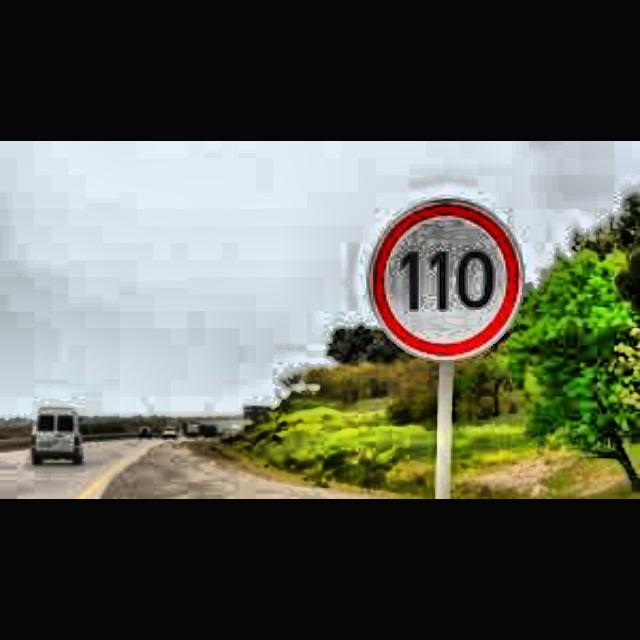speed_110: (368, 196, 524, 364)
